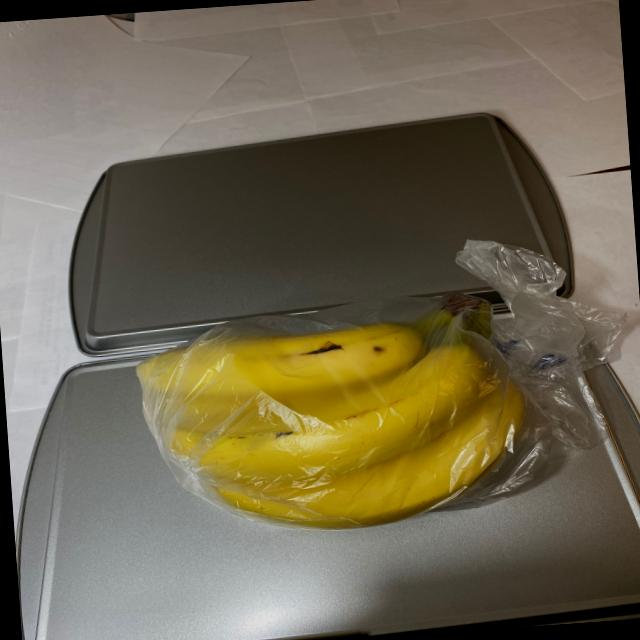banana: (128, 275, 536, 549)
